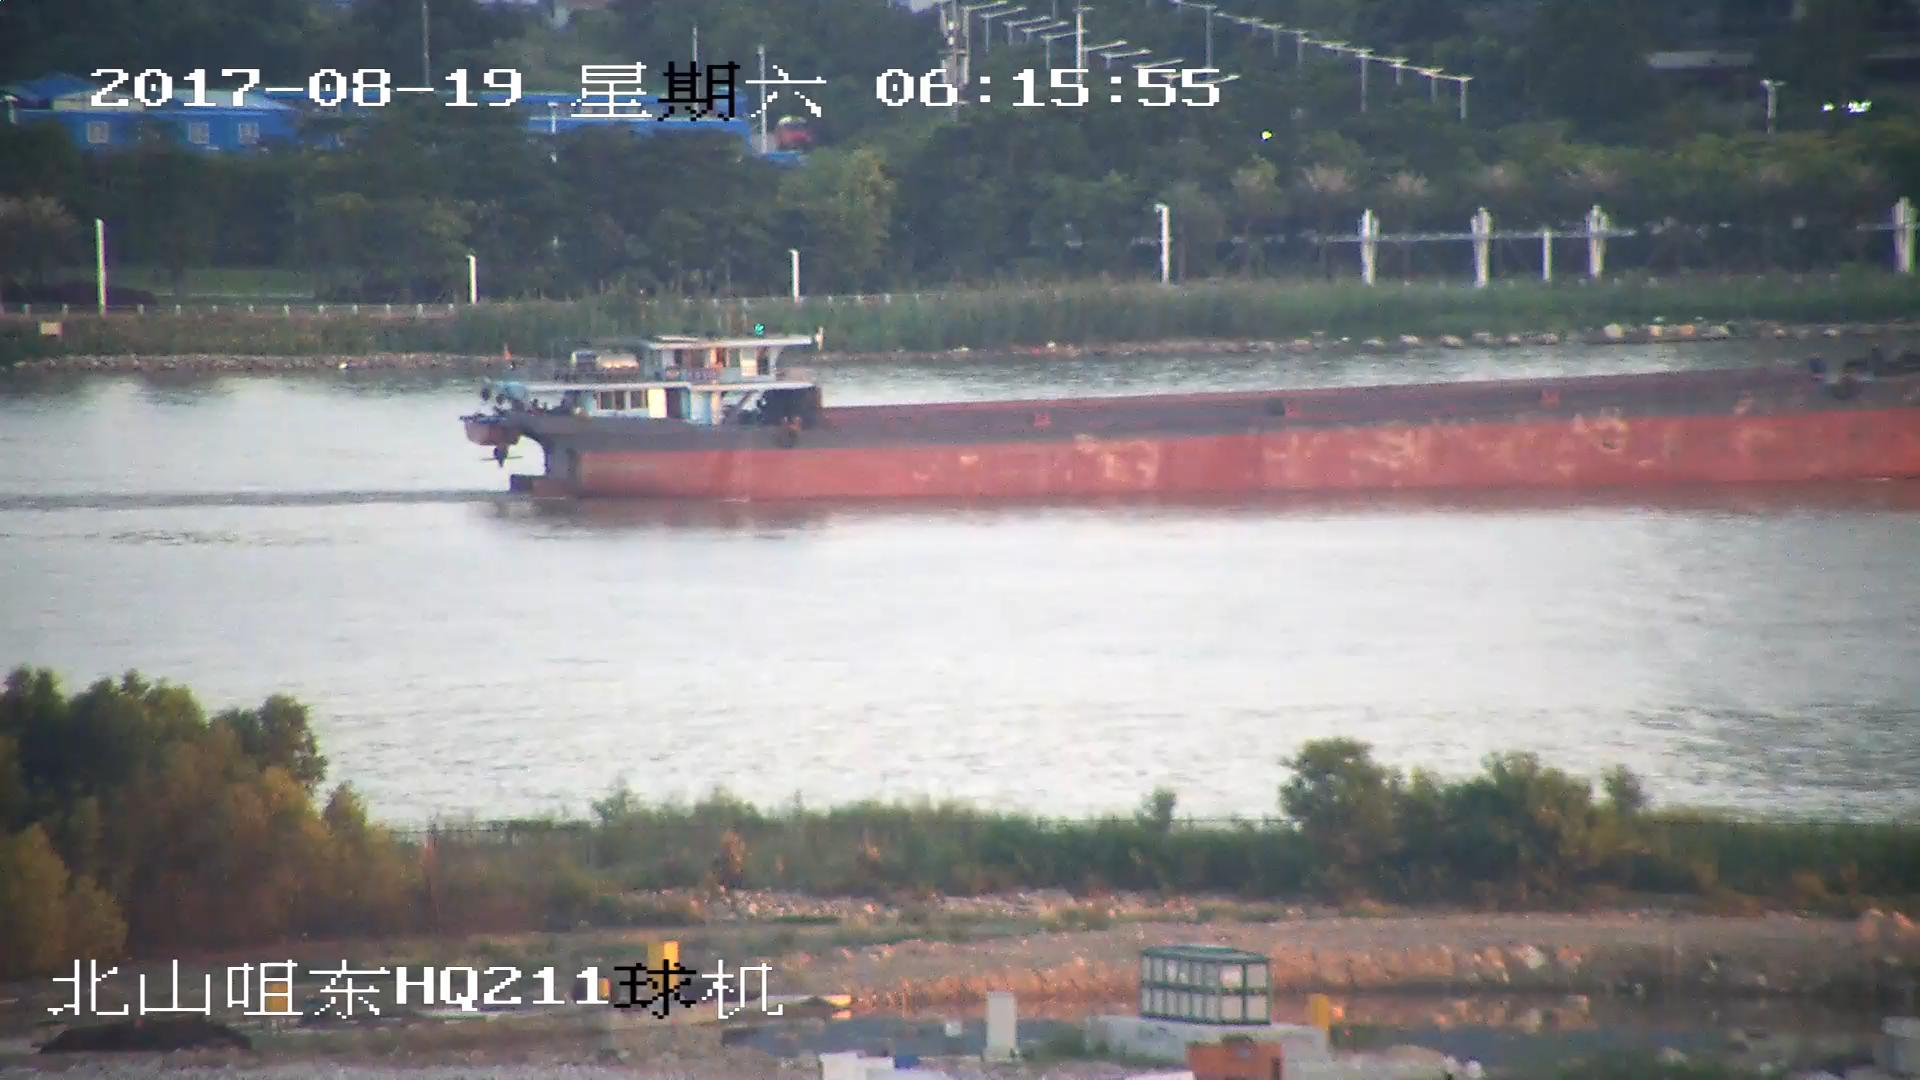Ship: (465, 328, 1920, 505)
